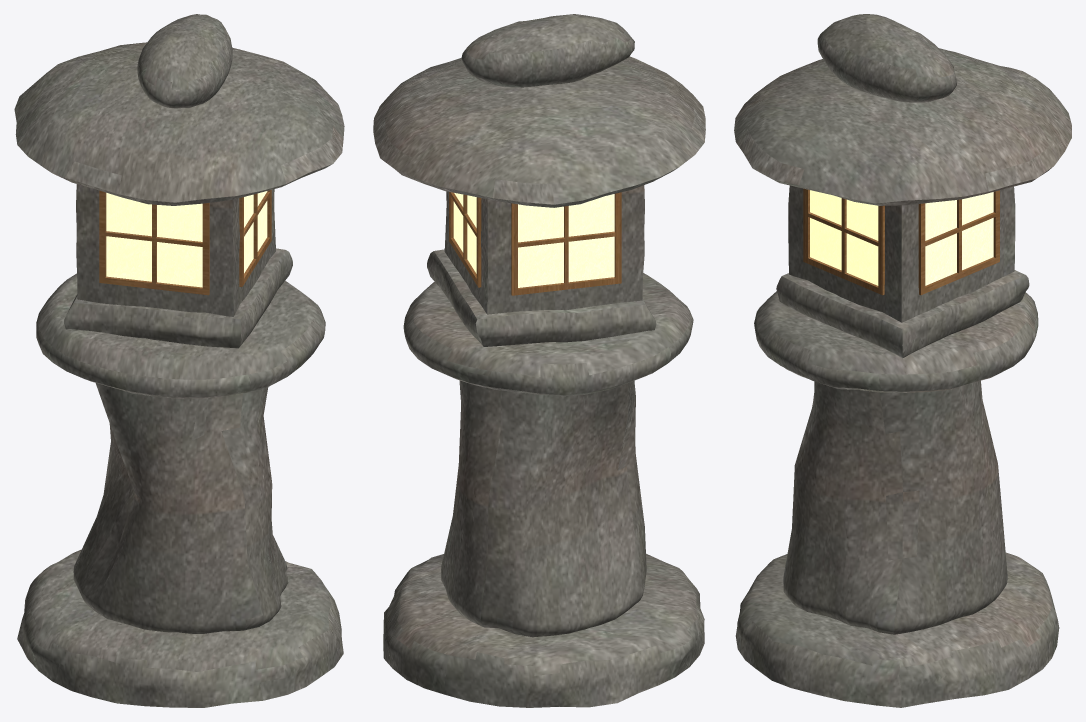
The model's file is stone_lantern.glb.
The picture shows the model from 3 angles, left to right: view 1: azimuth 30°, elevation 25°; view 2: azimuth 150°, elevation 25°; view 3: azimuth 270°, elevation 25°; orthographic projection.
Parts seen in each view (by area): view 1: Lamp_Pedra Lanterna_0, Emitter_led Falloff_0, Frame_Madeira_0; view 2: Lamp_Pedra Lanterna_0, Emitter_led Falloff_0, Frame_Madeira_0; view 3: Lamp_Pedra Lanterna_0, Emitter_led Falloff_0, Frame_Madeira_0.
Part boxes in pixels (box(x1,y1,x2,y2)): Lamp_Pedra Lanterna_0: box(14, 14, 344, 707); Emitter_led Falloff_0: box(106, 191, 267, 287); Frame_Madeira_0: box(99, 190, 271, 295); Lamp_Pedra Lanterna_0: box(373, 14, 705, 707); Emitter_led Falloff_0: box(453, 193, 614, 287); Frame_Madeira_0: box(449, 192, 621, 295); Lamp_Pedra Lanterna_0: box(734, 14, 1071, 707); Emitter_led Falloff_0: box(810, 190, 993, 285); Frame_Madeira_0: box(803, 188, 999, 295).
Bounding box in the file's own units: 0.6252 × 1.27 × 0.6332.
3 materials, 3 textured.
